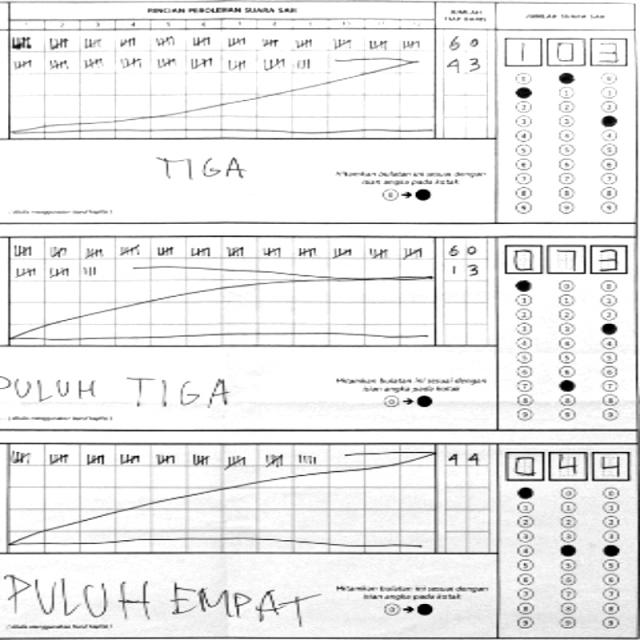Suara: (499, 442, 636, 482), (494, 236, 632, 275), (496, 31, 633, 70)
